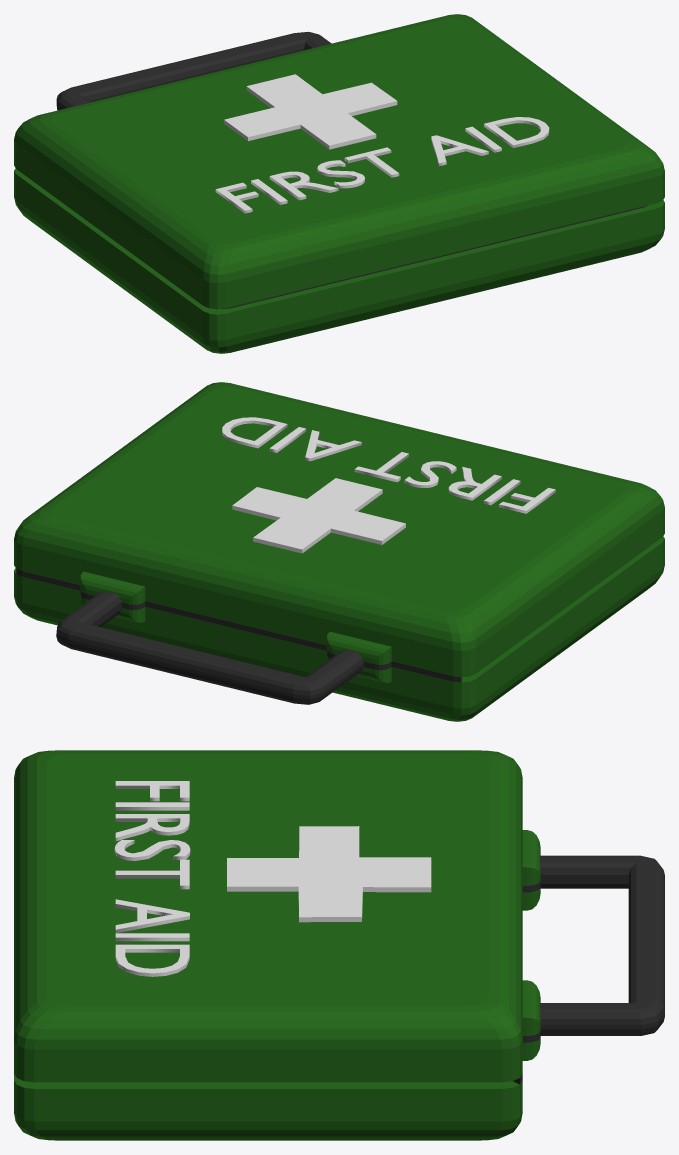
Rendered from Medkit.fbx.
3 views of the same model, one above another, from view 1: azimuth 30°, elevation 25°; view 2: azimuth 150°, elevation 25°; view 3: azimuth 270°, elevation 25° (orthographic). The views are drawn at different scales.
Parts seen in each view (by area): view 1: Cube; view 2: Cube; view 3: Cube.
Boxes of the visible parts, <box> form: Cube: <box>14,14,664,353</box>; Cube: <box>14,382,664,721</box>; Cube: <box>14,750,664,1140</box>.
Bounding box in the file's own units: 200 × 45.66 × 196.
